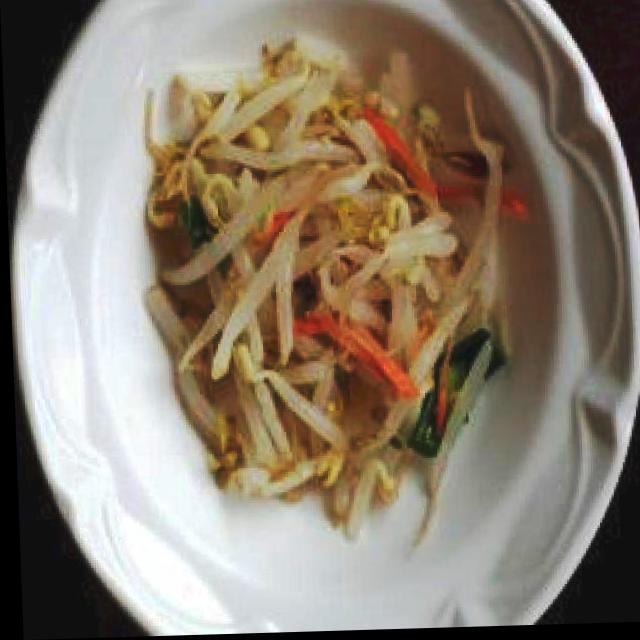mung_bean_sprouts: (138, 38, 529, 551)
